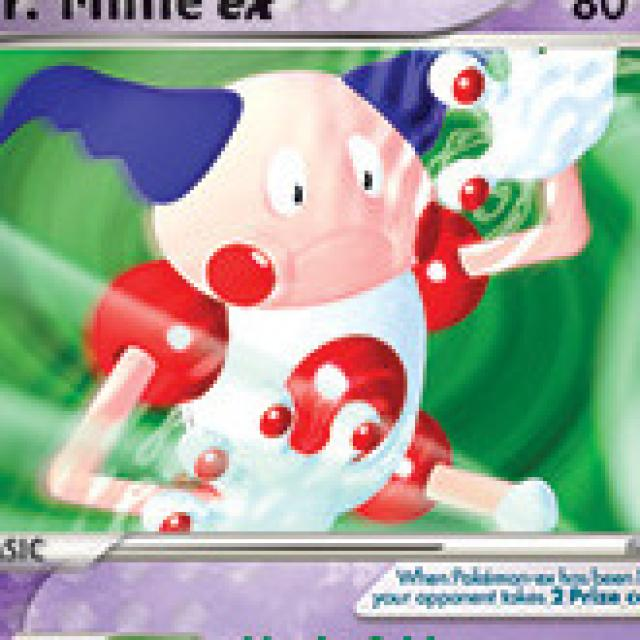MrMime: (32, 59, 594, 542)
